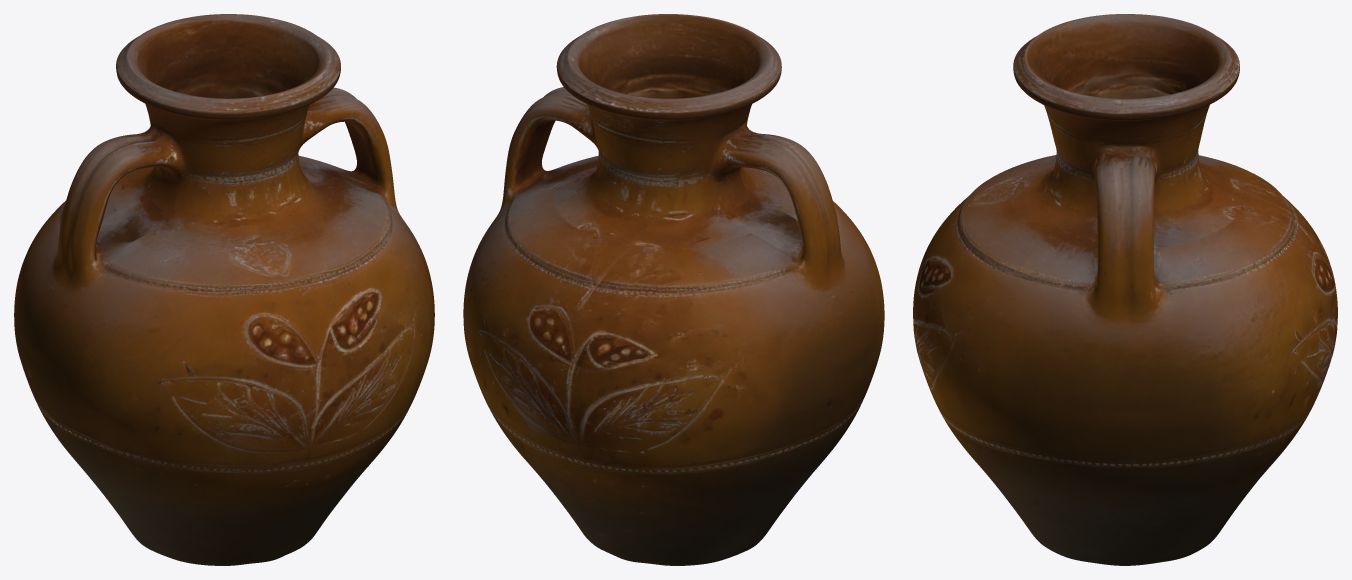
File: 043-raspisnaya-dvuruchnaya-amfora.glb
The picture shows the model from 3 angles, left to right: view 1: azimuth 30°, elevation 25°; view 2: azimuth 150°, elevation 25°; view 3: azimuth 270°, elevation 25°; orthographic projection.
Visible parts, largest first — view 1: node_0; view 2: node_0; view 3: node_0.
Part boxes in pixels (x1,y1,x2,y2): node_0: [14, 14, 434, 565]; node_0: [463, 14, 884, 565]; node_0: [913, 14, 1337, 565].
Size of the model in its own units: 0.8957 by 1.11 by 0.8999.
Materials: 1 (1 with a texture image).
